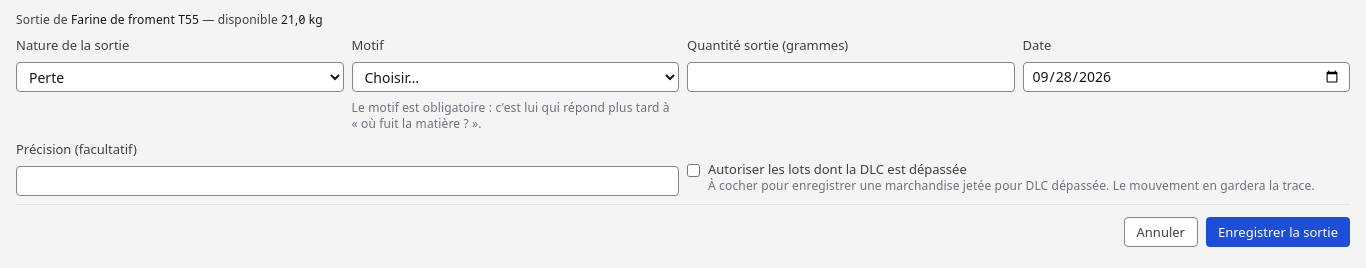
Test: SaisieSortie — refus de saisie : aucun appel réseau ne part sur un formulaire incomplet › une quantité décimale est refusée : les grammes et millilitres sont ENTIERS (CLAUDE.md §3 règle 4)
Select "Casse ou renversement au transport" in the dropdown labelled "Motif" at x=515, y=77, box [352,62,679,92]
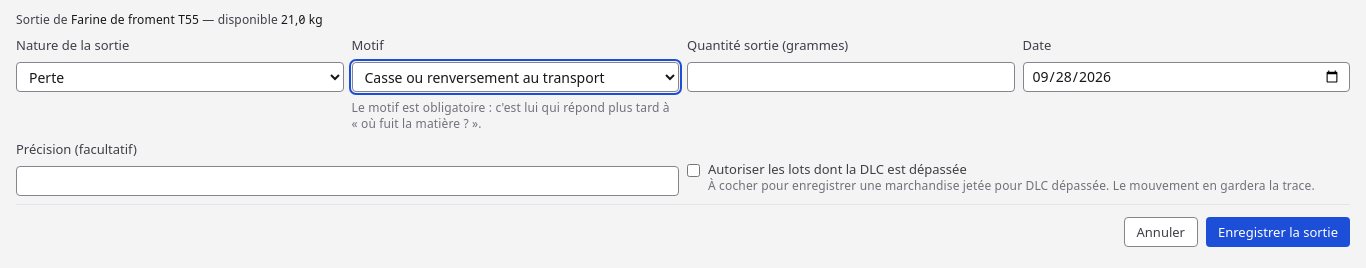
Type "12,5" into the field labelled "Quantité sortie (grammes)" at x=851, y=77, box [687,62,1014,92]
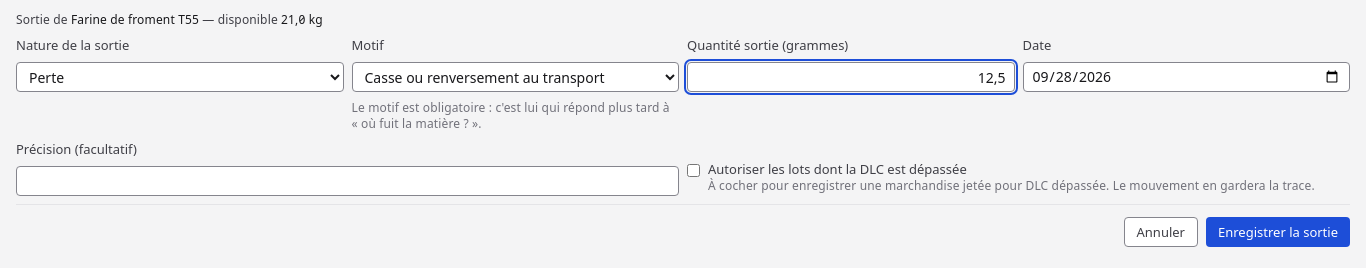
Click the button "Enregistrer la sortie" at x=1278, y=232, box [1206,217,1350,247]
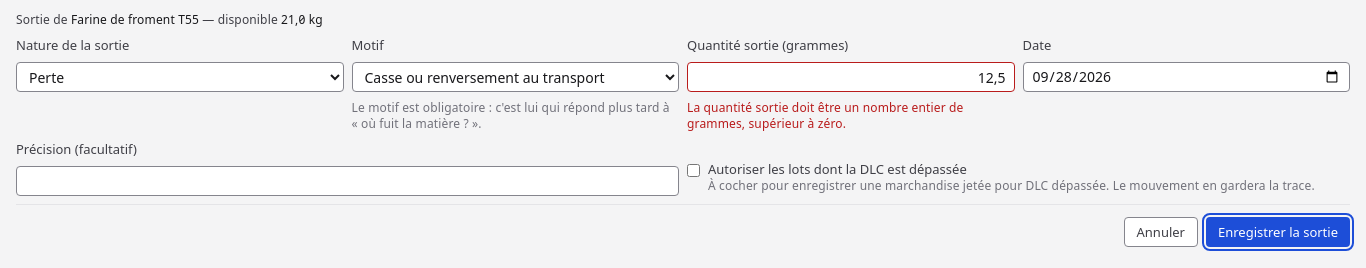
Expected: the text "nombre entier de grammes" is shown, [687,99,964,132]
